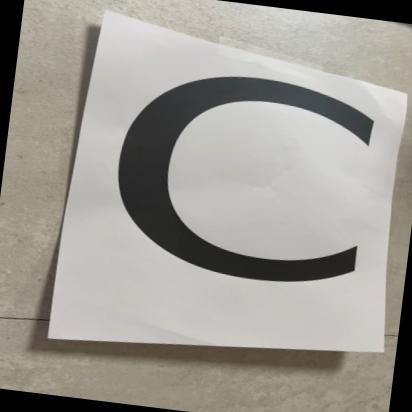seat: (33, 0, 410, 391)
